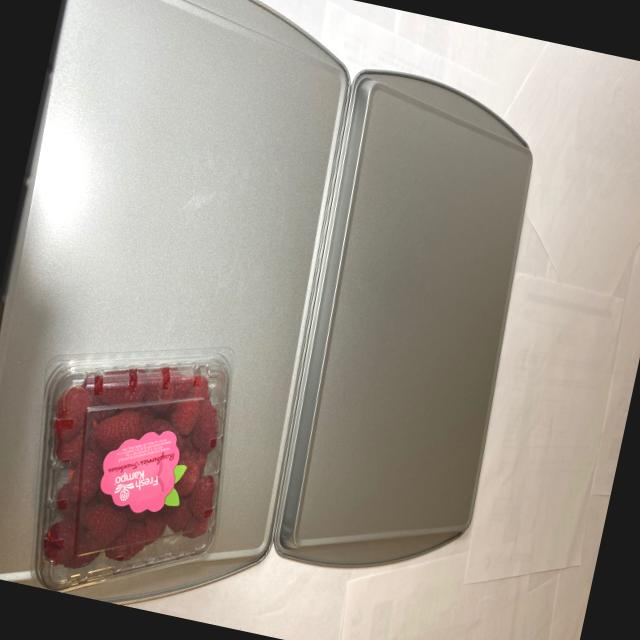raspberries: (29, 340, 237, 595)
